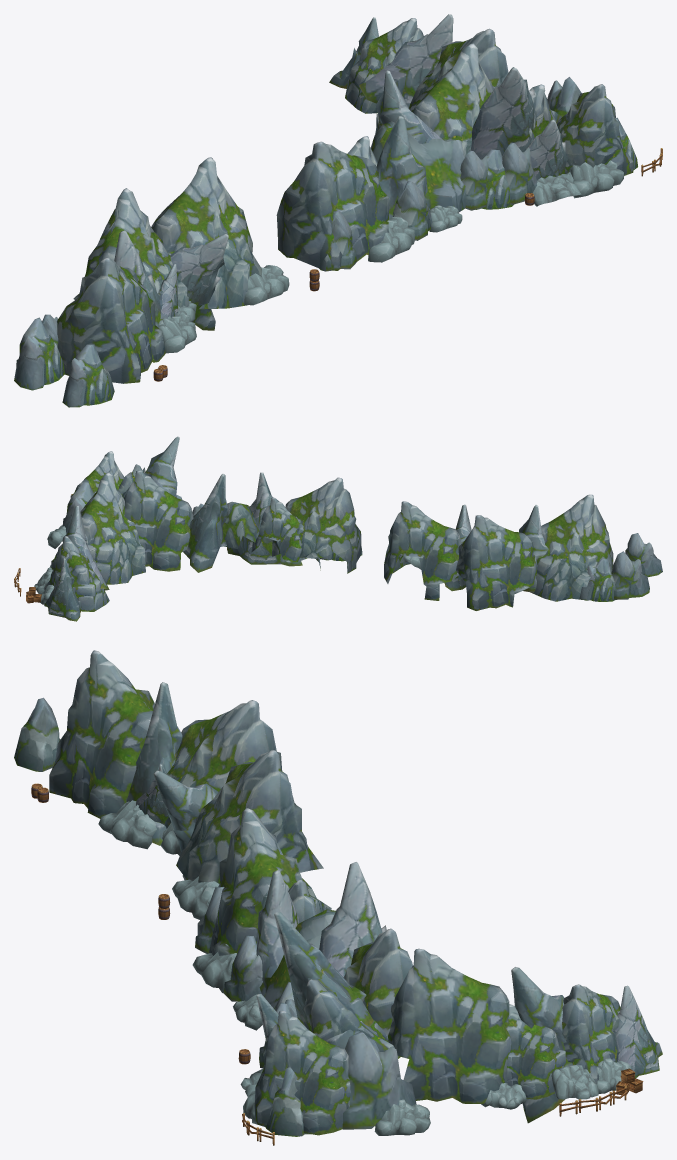
File: yanshi23_1.fbx
3 renders of one model, top to bottom at view 1: azimuth 30°, elevation 25°; view 2: azimuth 150°, elevation 25°; view 3: azimuth 270°, elevation 25°, orthographic. The views are drawn at different scales.
Visible parts, largest first — view 1: yanshi23_1; view 2: yanshi23_1; view 3: yanshi23_1.
Part boxes in pixels (x1,y1,x2,y2): yanshi23_1: (14,14,662,407); yanshi23_1: (14,436,662,621); yanshi23_1: (14,650,662,1145).
Size of the model in its own units: 7073 by 1461 by 4691.
